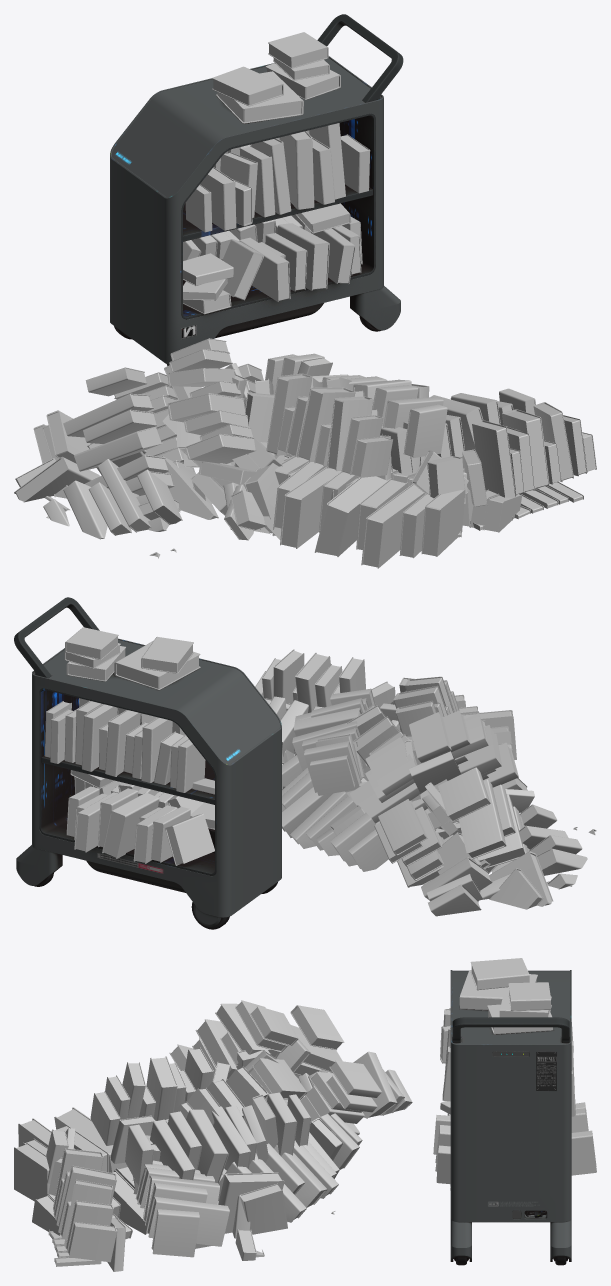
3 views of the same model, one above another, from view 1: azimuth 30°, elevation 25°; view 2: azimuth 150°, elevation 25°; view 3: azimuth 270°, elevation 25° (orthographic). The views are drawn at different scales.
Visible parts, largest first — view 1: books_pile_low_2, books_low_1, cart.001_low_3, cart.006_low_9, cart.002_low_5, cart.003_low_6, cart.005_low_8, cart.004_low_7; view 2: books_pile_low_2, cart.001_low_3, books_low_1, cart.006_low_9, cart.005_low_8, cart.002_low_5, cart.003_low_6, cart.004_low_7; view 3: books_pile_low_2, cart.001_low_3, books_low_1, cart.003_low_6, cart.002_low_5.
Part boxes in pixels (box(x1,y1,x2,y2)): books_pile_low_2: box(14, 338, 596, 568); books_low_1: box(183, 32, 370, 314); cart.001_low_3: box(110, 56, 383, 364); cart.006_low_9: box(181, 113, 375, 319); cart.002_low_5: box(317, 14, 403, 102); cart.003_low_6: box(350, 286, 400, 330); cart.005_low_8: box(183, 184, 373, 241); cart.004_low_7: box(215, 303, 323, 338); books_pile_low_2: box(255, 649, 596, 916); cart.001_low_3: box(32, 638, 281, 917); books_low_1: box(44, 627, 214, 865); cart.006_low_9: box(39, 688, 216, 875); cart.005_low_8: box(41, 755, 214, 804); cart.002_low_5: box(14, 597, 99, 678); cart.003_low_6: box(16, 845, 62, 885); cart.004_low_7: box(86, 861, 185, 892); books_pile_low_2: box(14, 1000, 412, 1271); cart.001_low_3: box(450, 970, 571, 1222); books_low_1: box(433, 958, 596, 1190); cart.003_low_6: box(450, 1219, 571, 1261); cart.002_low_5: box(452, 1017, 569, 1042).
Size of what is drawn, in the model's own units: 5.34 by 3.11 by 6.25.
